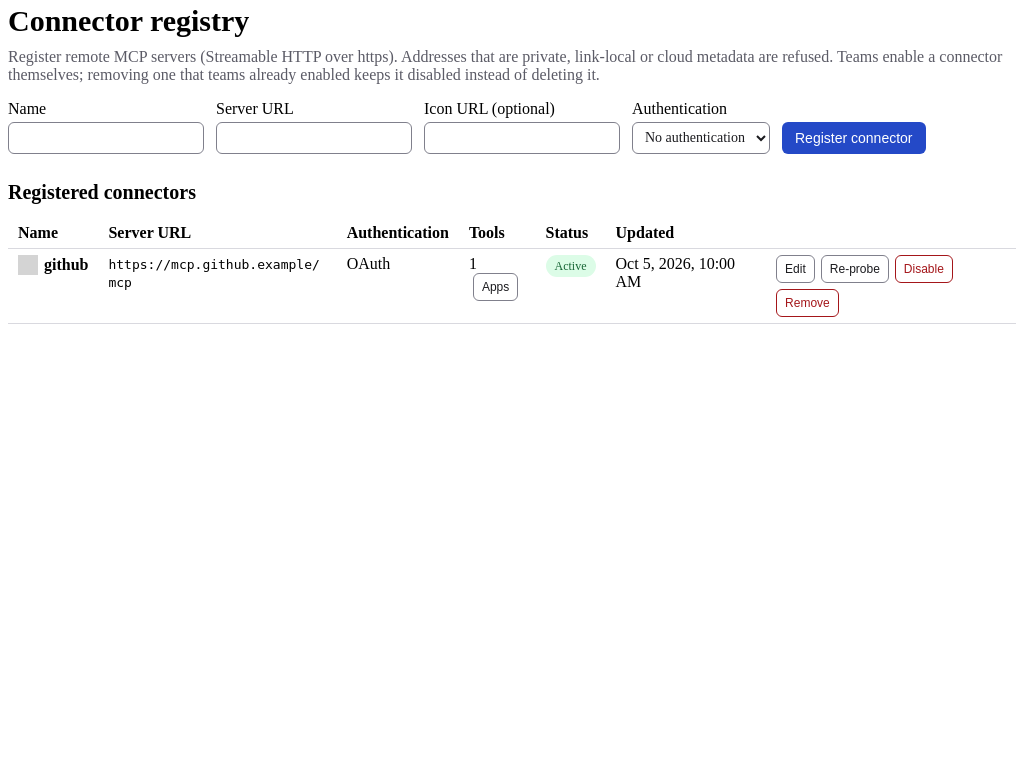
it: app placement (KOBE-531) › sets where an approved template opens, saved on change
Click the button named "Apps of github" at (496, 286), box [473,272,518,300]
(page scrolled)
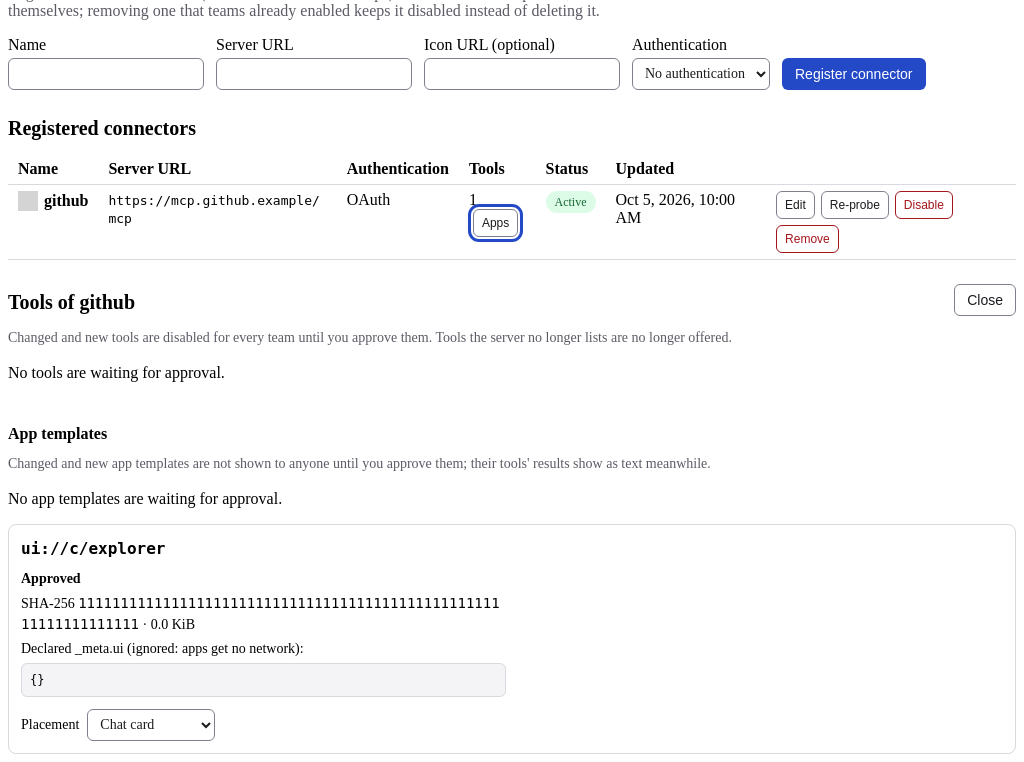
Expected: the dropdown labelled "Placement" shows "Chat card"
Select "Artifact column" in the dropdown labelled "Placement" at (151, 724), box [87,708,215,740]
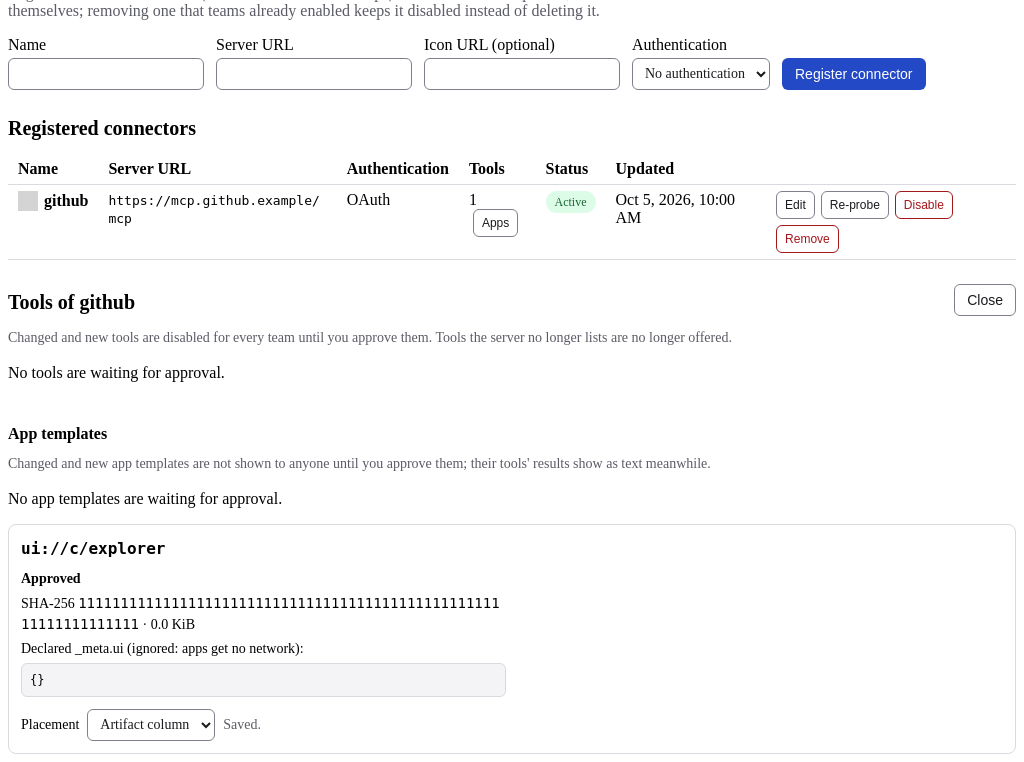
Expected: the text "Saved." is shown, [223,714,261,734]
